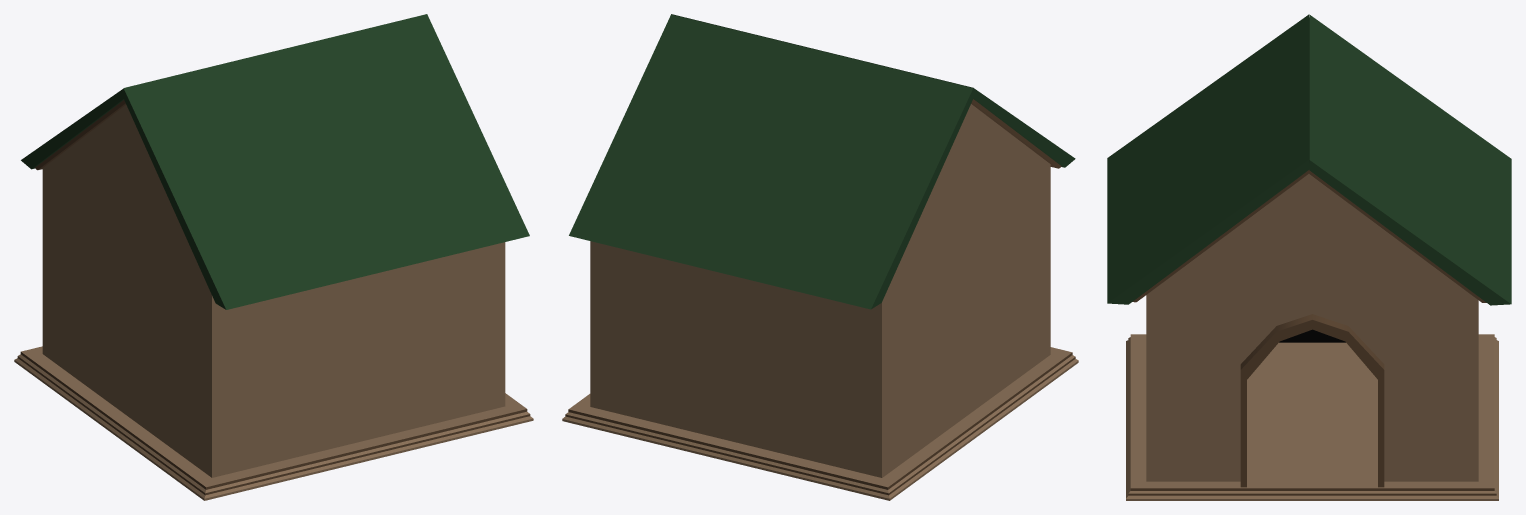
File: doghouse.fbx
The picture shows the model from 3 angles, left to right: view 1: azimuth 30°, elevation 25°; view 2: azimuth 150°, elevation 25°; view 3: azimuth 270°, elevation 25°; orthographic projection.
Parts seen in each view (by area): view 1: pCube9, pCube4, pCube1, pCube3, pCube14; view 2: pCube9, pCube13, pCube1, pCube4, pCube3, pCube15; view 3: pCube9, pCube4, pCube1, pCube13, pCube11, pCube3, pCube12, pCube15, pCube14.
Part boxes in pixels (<box>): pCube9: <box>42,105,505,477</box>; pCube4: <box>123,14,529,309</box>; pCube1: <box>14,346,533,500</box>; pCube3: <box>21,89,123,169</box>; pCube14: <box>35,100,125,170</box>; pCube9: <box>590,104,1050,477</box>; pCube13: <box>569,14,973,309</box>; pCube1: <box>562,347,1078,500</box>; pCube4: <box>671,14,1075,167</box>; pCube3: <box>871,90,973,308</box>; pCube15: <box>971,99,1061,168</box>; pCube9: <box>1146,174,1478,481</box>; pCube4: <box>1107,14,1309,304</box>; pCube1: <box>1126,334,1498,500</box>; pCube13: <box>1309,15,1511,303</box>; pCube11: <box>1240,314,1384,487</box>; pCube3: <box>1309,161,1510,305</box>; pCube12: <box>1109,161,1309,304</box>; pCube15: <box>1132,170,1309,302</box>; pCube14: <box>1309,170,1486,302</box>.
Bounding box in the file's own units: 8.06 × 7.99 × 8.73.
